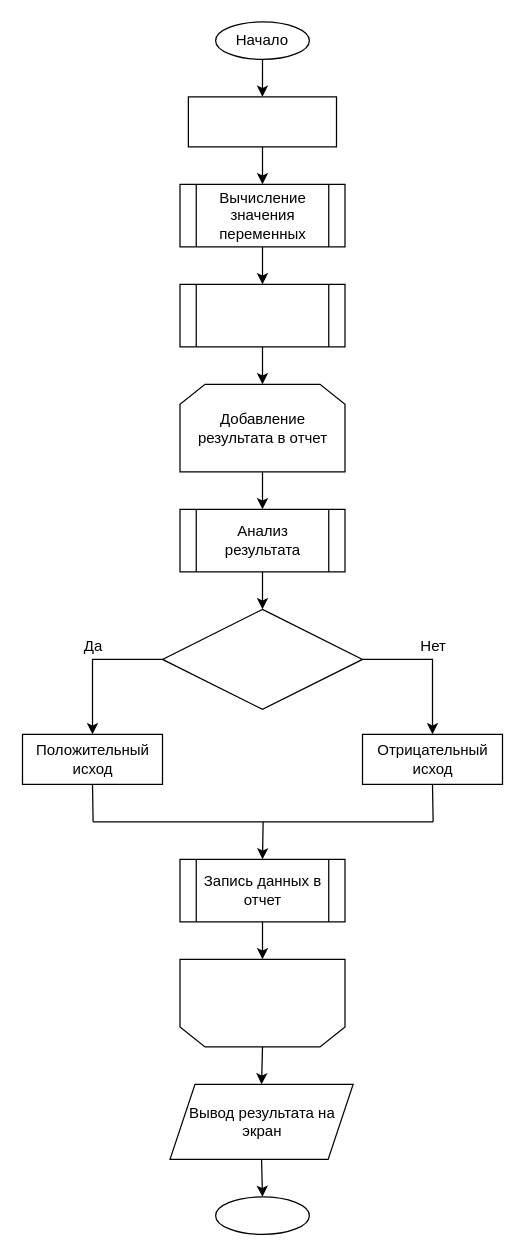
The diagram is 524 pixels wide and 1256 high, and some of its shapes have lost their labels. Each missing label, with the centre of its shape:
"Конец" belongs at [261,1215].
"Расчет коэффициента банкротства" belongs at [262,315].
"Результат больще 0?" belongs at [261,658].
"Создание списка данных для расчета" belongs at [261,121].
